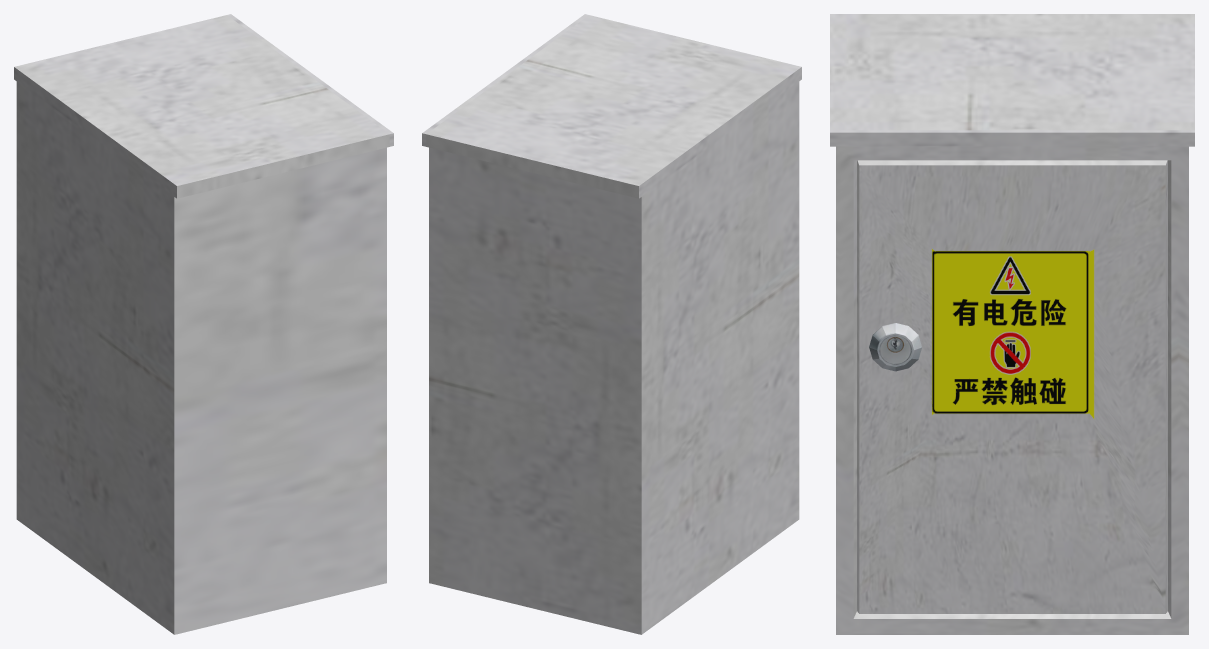
The model's file is peidianxiang.fbx.
3 views of the same model, side by side, from view 1: azimuth 30°, elevation 25°; view 2: azimuth 150°, elevation 25°; view 3: azimuth 270°, elevation 25° (orthographic). The views are drawn at different scales.
Visible parts, largest first — view 1: peidianxiang; view 2: peidianxiang; view 3: peidianxiang.
Boxes of the visible parts, <box> form: peidianxiang: <box>14,14,393,634</box>; peidianxiang: <box>422,14,801,634</box>; peidianxiang: <box>830,14,1194,634</box>.
Size of the model in its own units: 34.63 by 44.65 by 68.15.
1 material, 1 textured.
